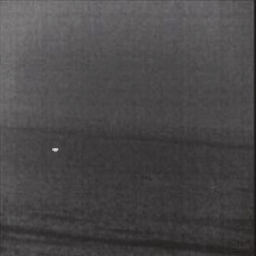Target: (50, 146, 59, 152)
